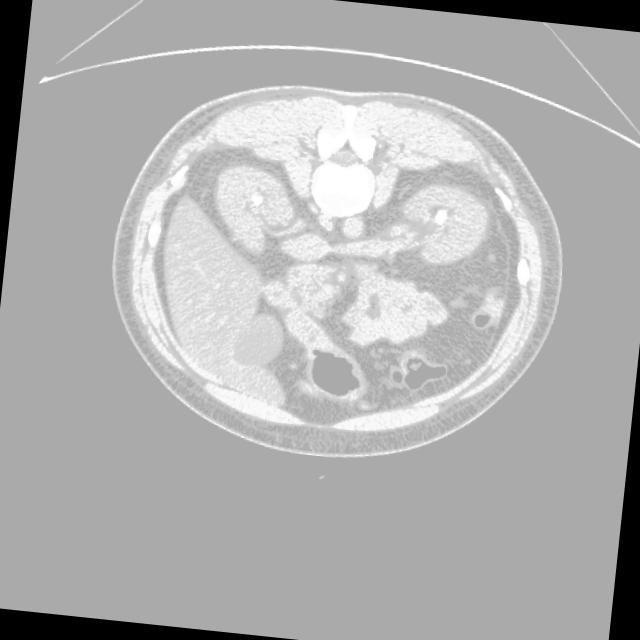STONE: (284, 239, 558, 451)
